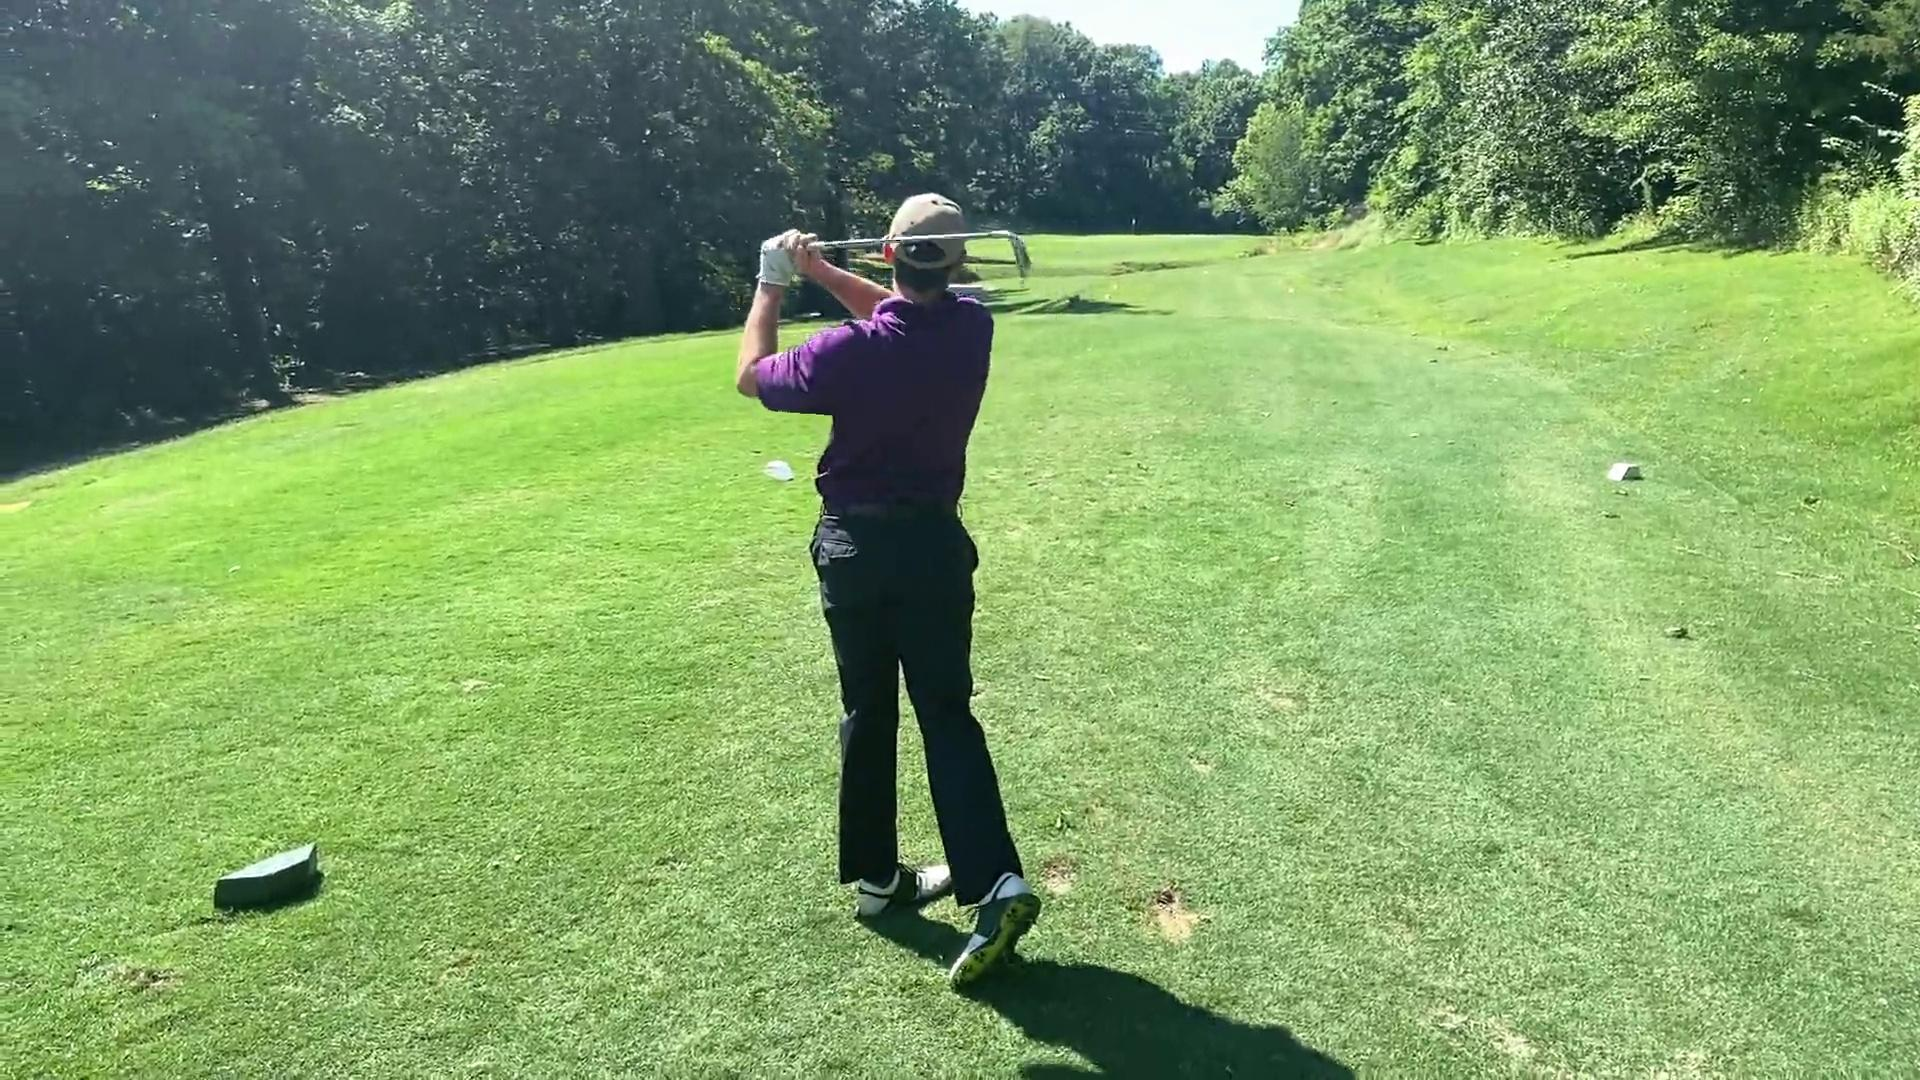ClubHead: (992, 229, 1033, 280)
